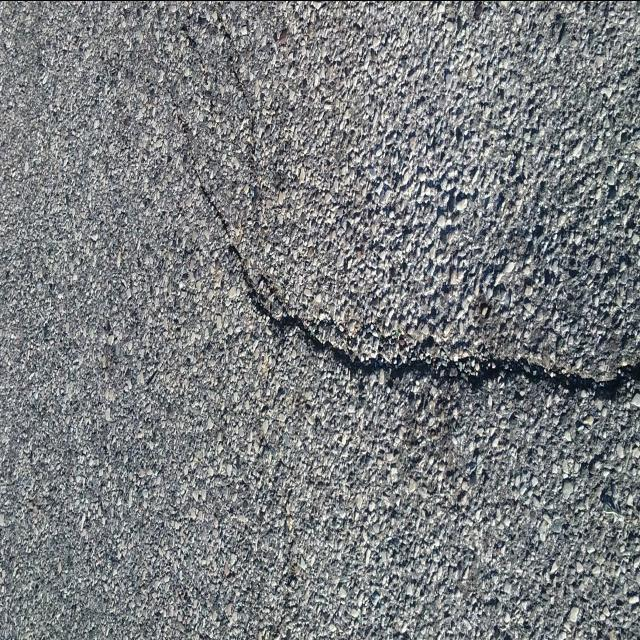Crack: (172, 94, 640, 402)
